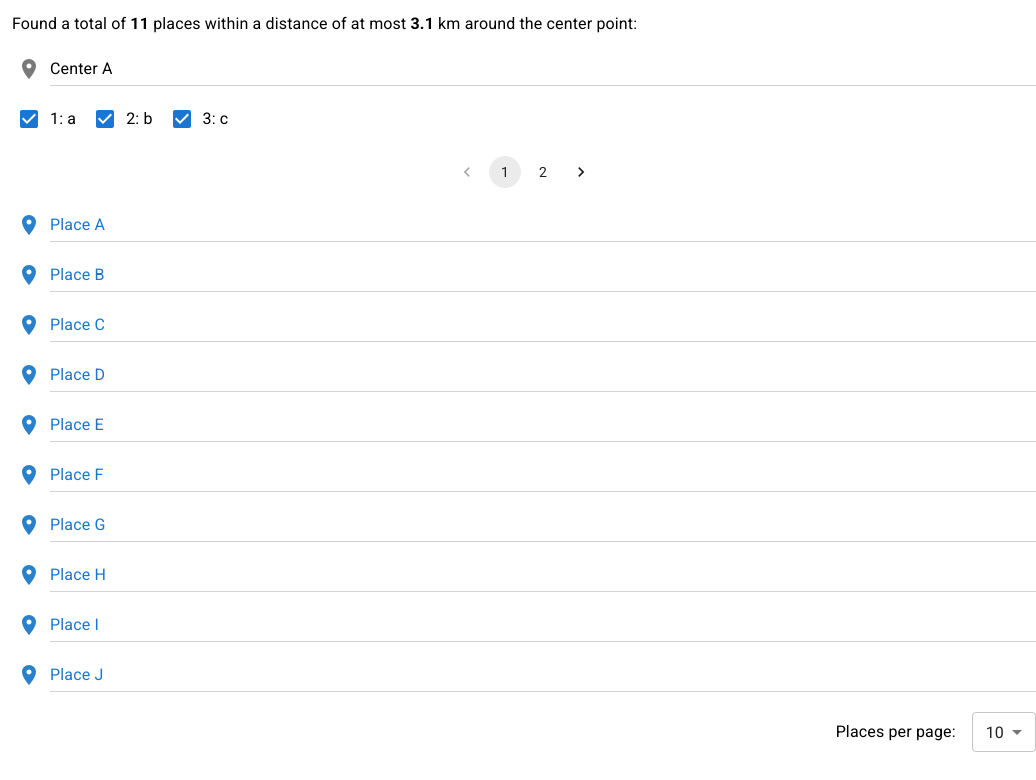
it: <ResultPlacesContent /> › category filters › filter controls the corresponding category
Click the 1st checkbox named "Hide places" at (29,119), box [12,102,46,136]
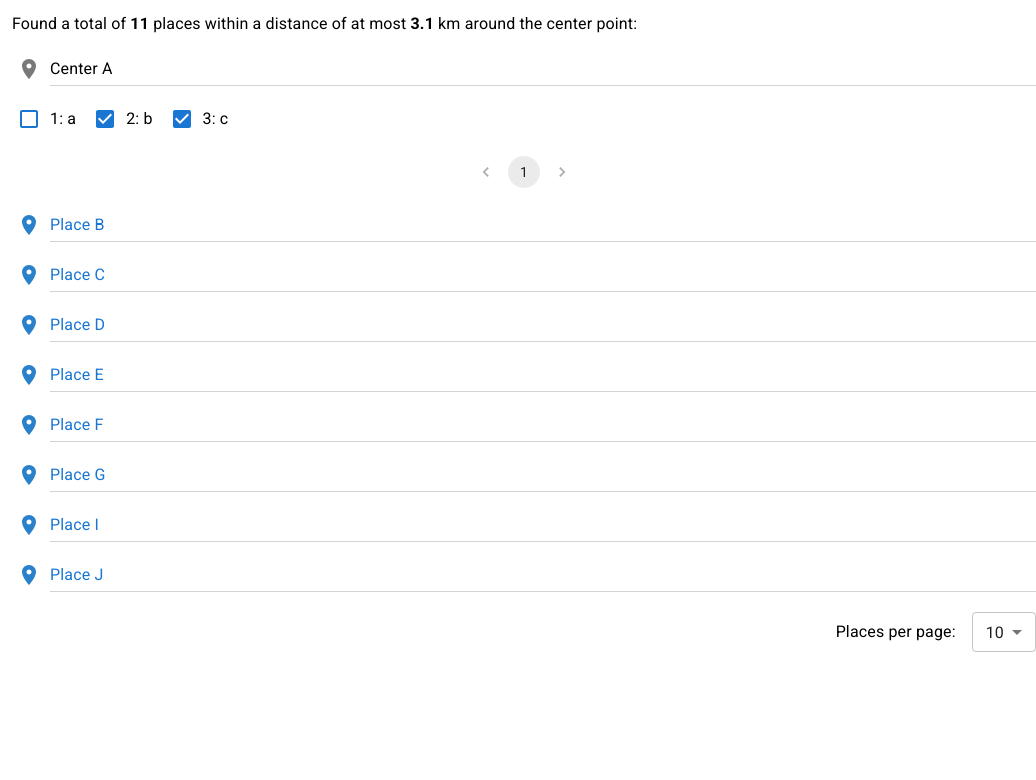
Check: the link "Place B" is shown, box [50,214,104,234]
Check: the link "Place C" is shown, box [50,264,105,284]
Check: the link "Place D" is shown, box [50,314,105,334]
Click the 1st checkbox named "Hide places" at (105,119), box [88,102,122,136]
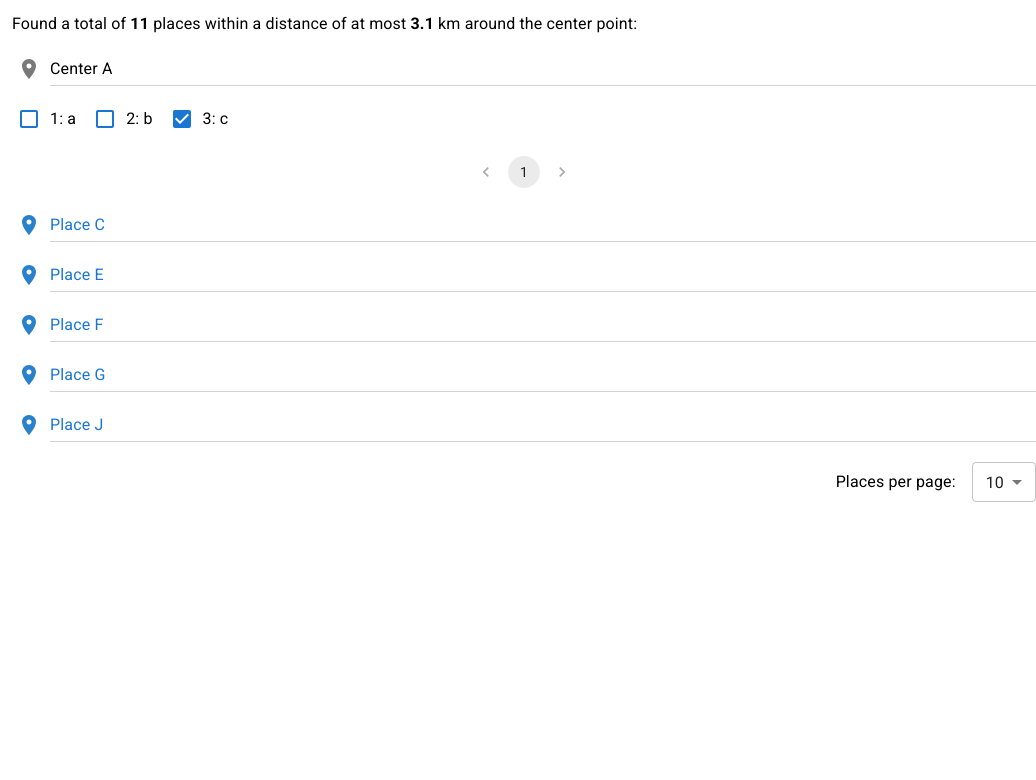
Check: the link "Place C" is shown, box [50,214,105,234]
Check: the link "Place E" is shown, box [50,264,104,284]
Check: the link "Place F" is shown, box [50,314,103,334]
Click the 2nd checkbox named "Show places" at (105,119), box [88,102,122,136]
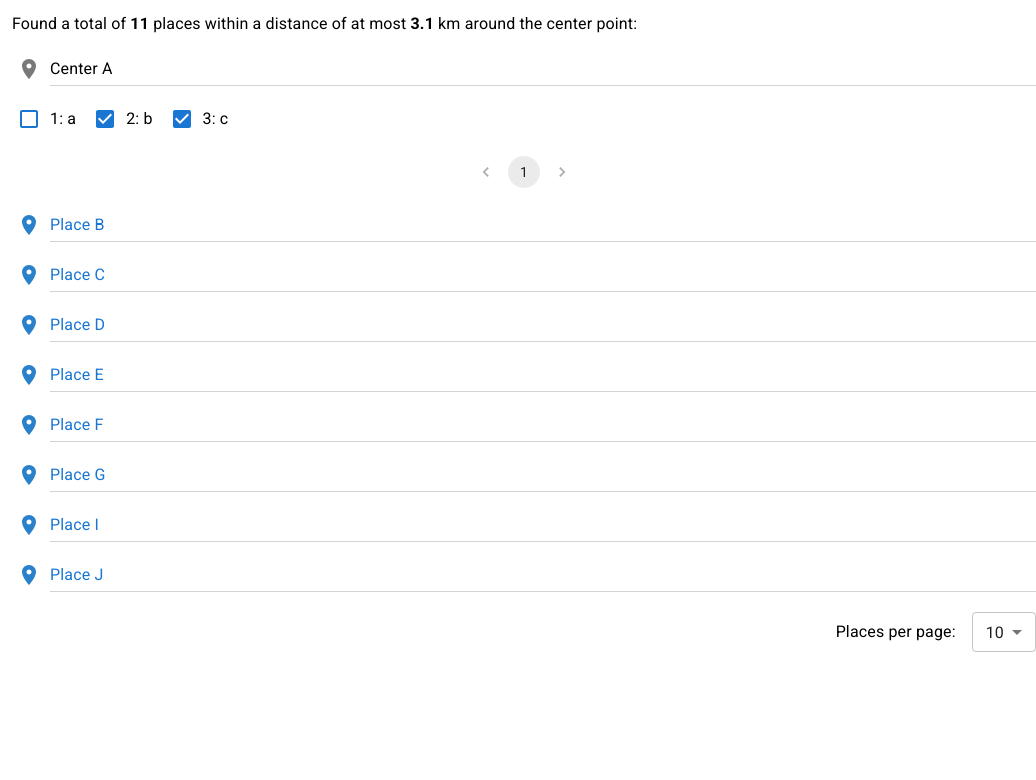
Check: the link "Place B" is shown, box [50,214,104,234]
Check: the link "Place C" is shown, box [50,264,105,284]
Check: the link "Place D" is shown, box [50,314,105,334]
